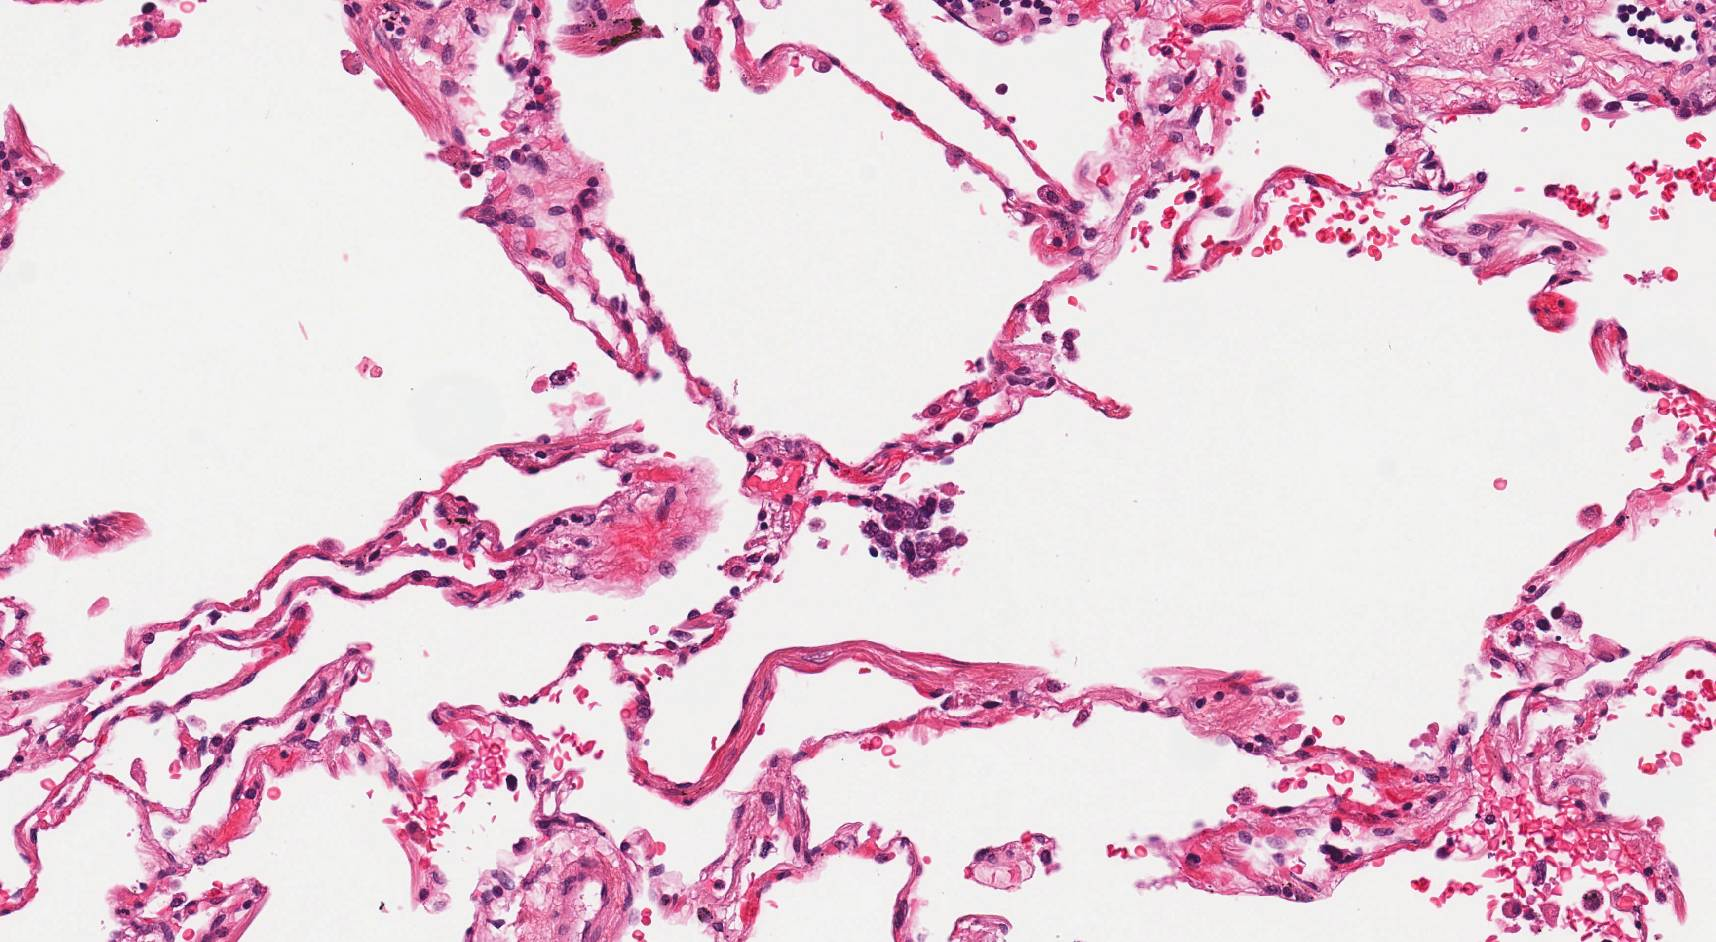stas: (856, 491, 976, 577)
